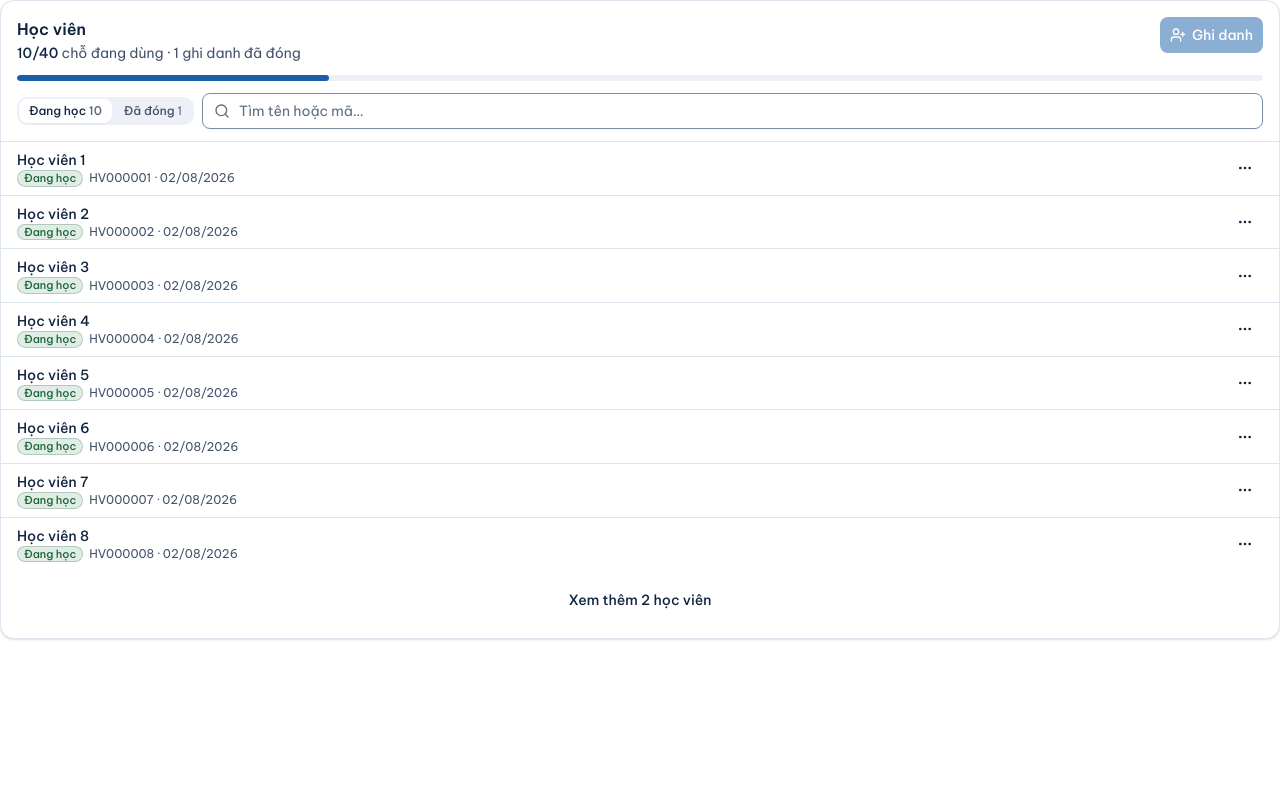
Test: thẻ học viên ở trang chi tiết lớp không được dài vô hạn › tìm không dấu ra được tên có dấu, và ghi danh đã đóng nằm sau bộ lọc riêng
This screenshot has width=1280, height=800.
Expected: the text "Trần Văn Đã Rút" is not shown
Type "ngoc dung" into the search field named "Tìm học viên trong lớp" at (733,111), box [202, 93, 1263, 129]
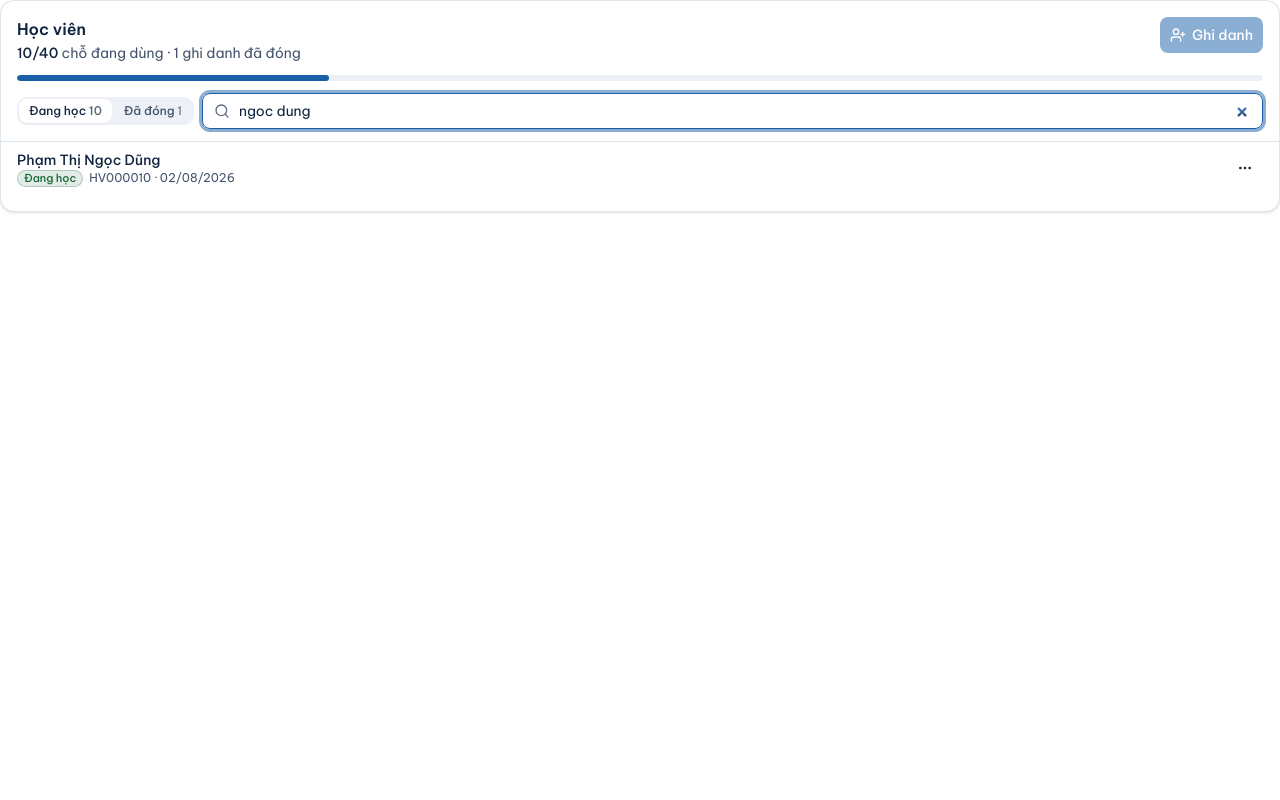
Now the text "Phạm Thị Ngọc Dũng" is shown, box [17, 151, 160, 169]
Now the number of list items is 1, box [1, 142, 1279, 195]
Clear the search field named "Tìm học viên trong lớp" at (733,111), box [202, 93, 1263, 129]
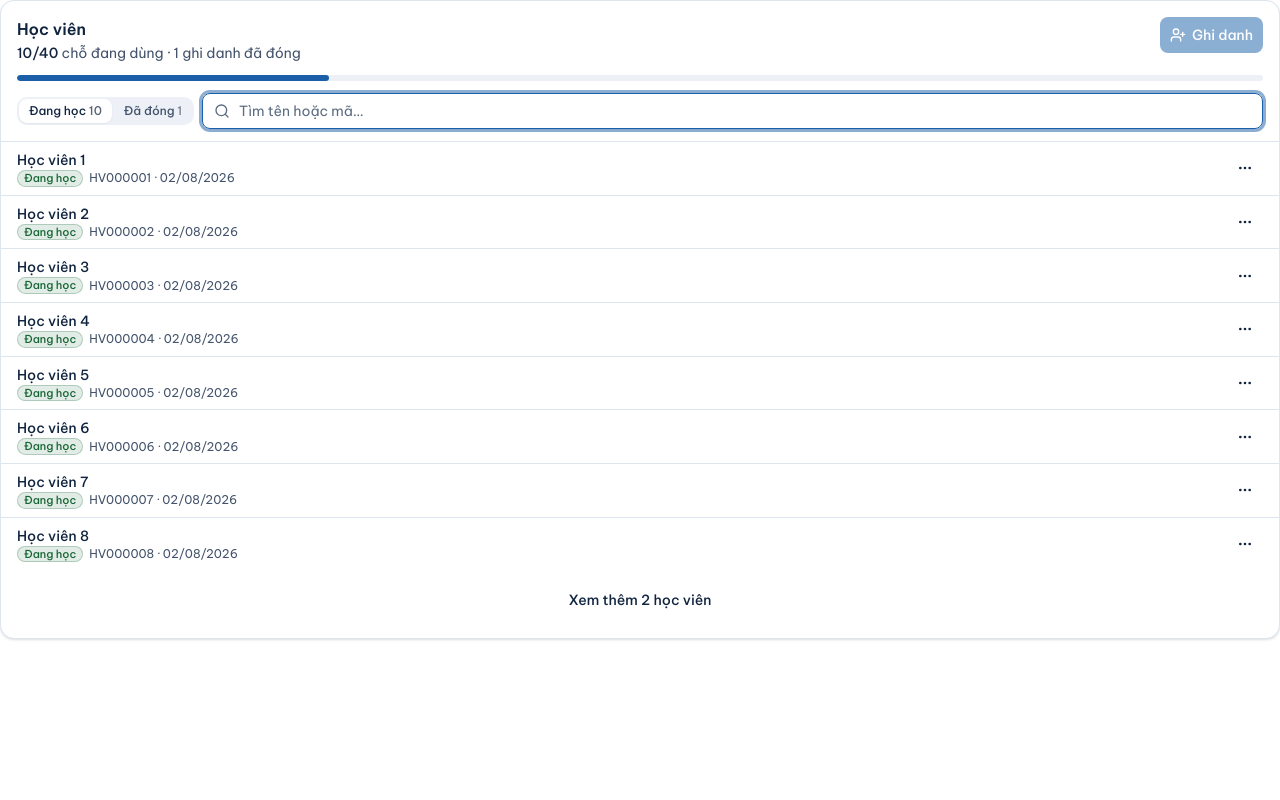
Click the button "Đã đóng 1" at (153,111), box [114, 99, 192, 123]
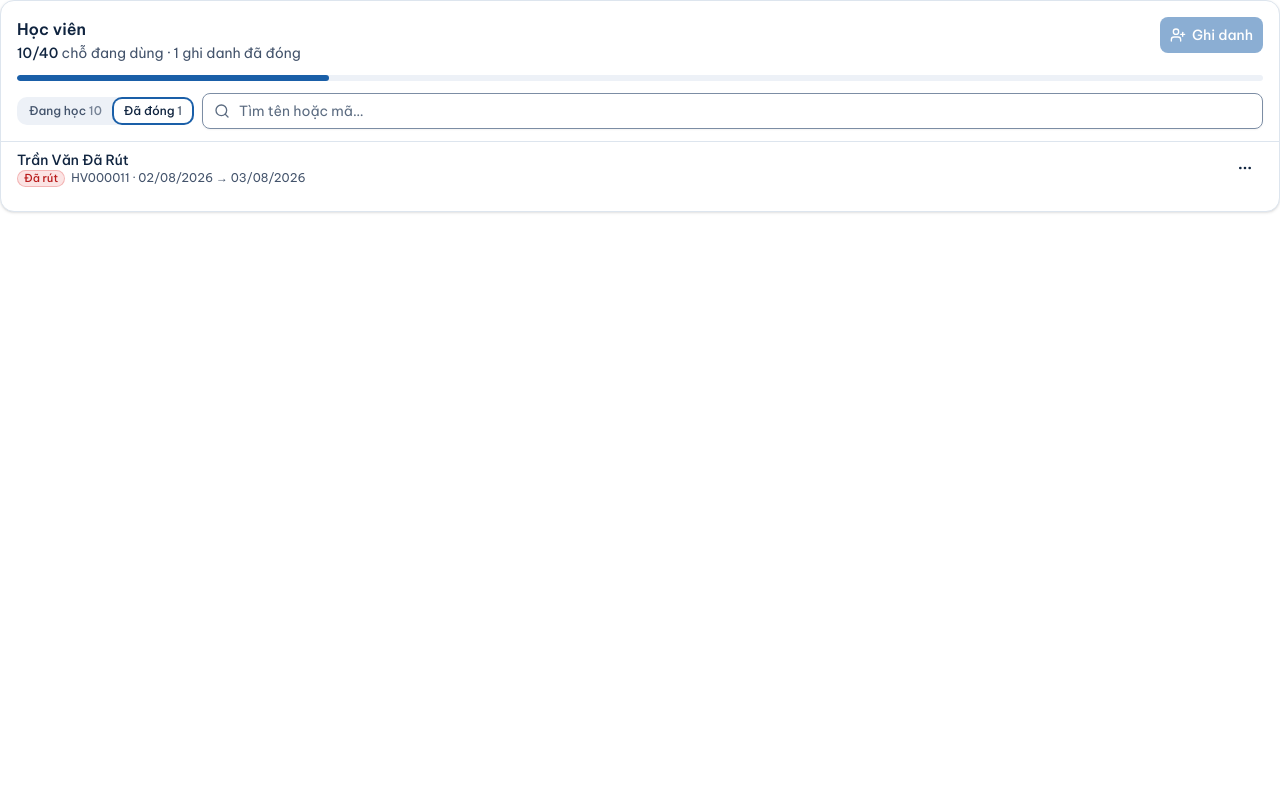
Now the text "Trần Văn Đã Rút" is shown, box [17, 151, 129, 169]
Now the number of list items is 1, box [1, 142, 1279, 195]
